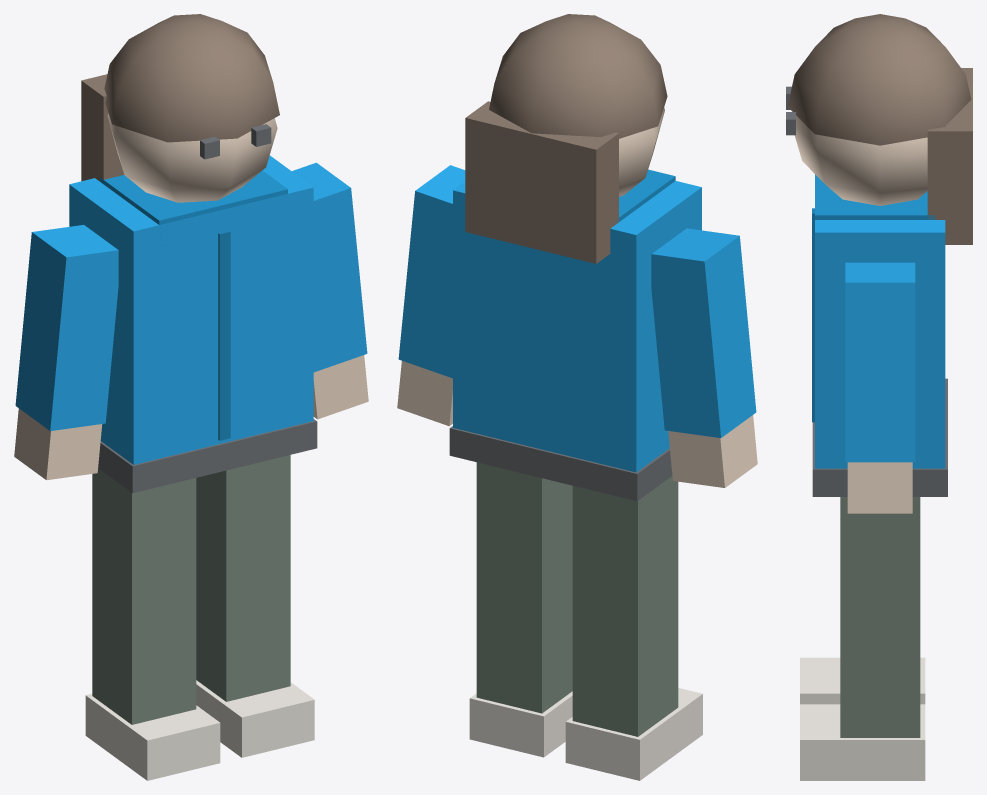
File: actor_1.glb
The picture shows the model from 3 angles, left to right: view 1: azimuth 30°, elevation 25°; view 2: azimuth 150°, elevation 25°; view 3: azimuth 270°, elevation 25°; orthographic projection.
Visible parts, largest first — view 1: pedestrian:cffffff, leg_0:cffffff, leg_1:cffffff, arm_0:cffffff, arm_1:cffffff; view 2: pedestrian:cffffff, leg_0:cffffff, leg_1:cffffff, arm_0:cffffff, arm_1:cffffff; view 3: pedestrian:cffffff, leg_1:cffffff, arm_1:cffffff, leg_0:cffffff.
Part boxes in pixels (x1,y1,x2,y2): pedestrian:cffffff: (69,14,317,493); leg_0:cffffff: (85,468,220,780); leg_1:cffffff: (196,455,314,757); arm_0:cffffff: (14,225,118,480); arm_1:cffffff: (292,162,368,419); pedestrian:cffffff: (449,14,701,501); leg_0:cffffff: (565,476,702,780); leg_1:cffffff: (469,462,572,757); arm_0:cffffff: (651,228,757,487); arm_1:cffffff: (397,165,465,426); pedestrian:cffffff: (786,14,972,496); leg_1:cffffff: (800,497,925,780); arm_1:cffffff: (845,262,915,513); leg_0:cffffff: (800,657,925,704).
Size of the model in its own units: 0.7512 by 1.58 by 0.373.
